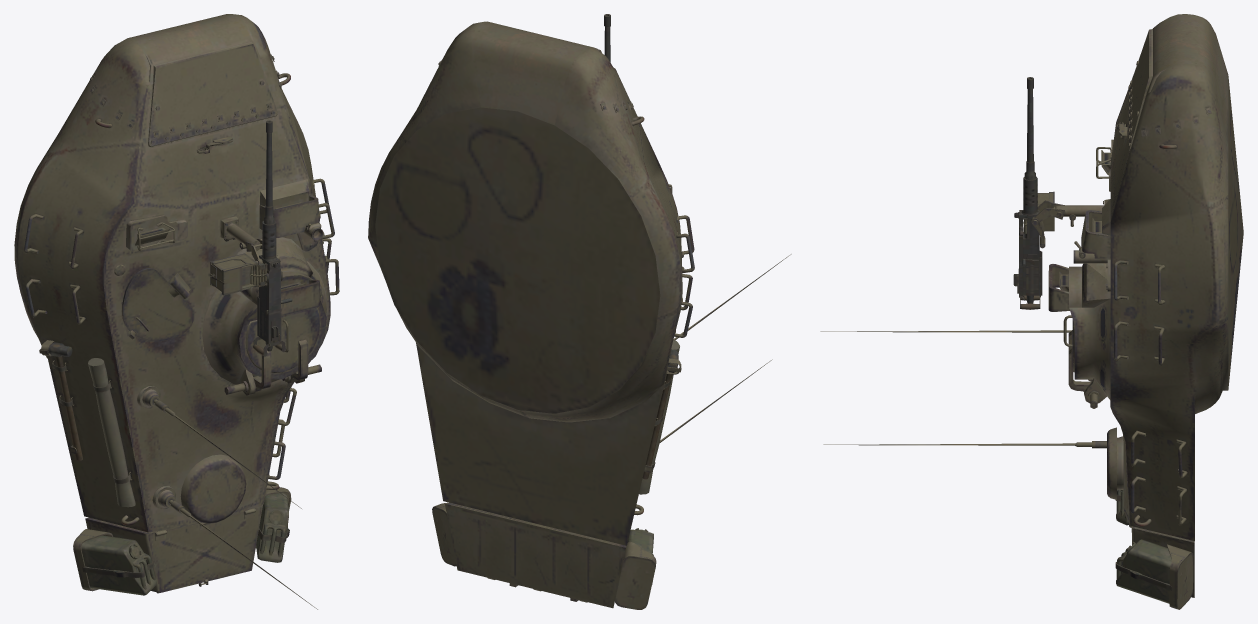
File: Turret_02.glb
3 views of the same model, side by side, from view 1: azimuth 30°, elevation 25°; view 2: azimuth 150°, elevation 25°; view 3: azimuth 270°, elevation 25° (orthographic). The views are drawn at different scales.
Visible parts, largest first — view 1: set_0_group_0; view 2: set_0_group_0; view 3: set_0_group_0.
Part boxes in pixels (x1=…): set_0_group_0: x1=14, y1=14, x2=339, y2=609; set_0_group_0: x1=368, y1=14, x2=791, y2=609; set_0_group_0: x1=820, y1=14, x2=1243, y2=609.
Size of the model in its own units: 2.29 by 3.89 by 2.8.
Materials: 1 (1 with a texture image).
